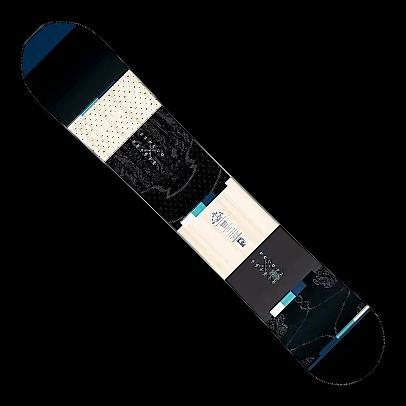Snowboard: (20, 19, 385, 386)
